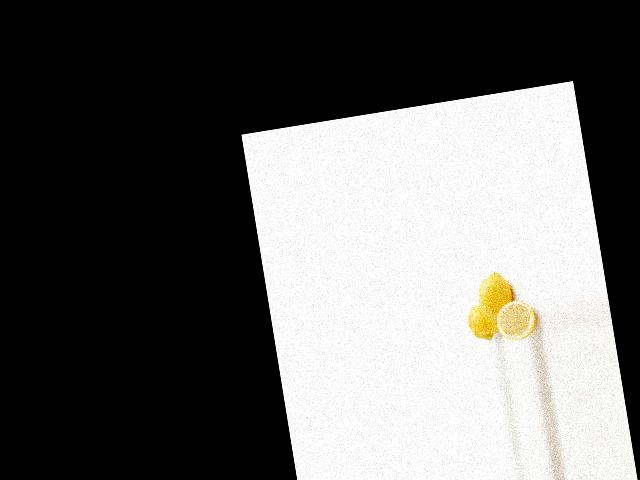lemon: (463, 298, 501, 346)
